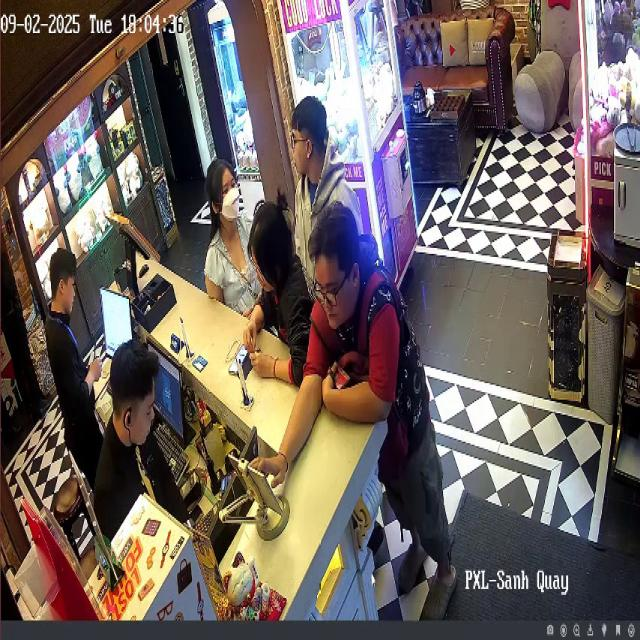khach: (259, 212, 468, 586), (289, 70, 359, 324), (240, 191, 313, 397), (203, 144, 264, 343)
nhan vien: (99, 322, 196, 573), (38, 239, 108, 475), (0, 185, 56, 406)
